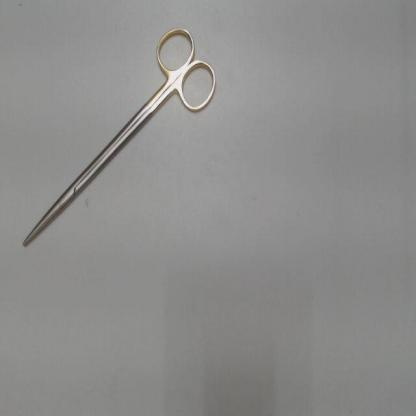7 Metzenbaum Scissors: (21, 22, 224, 252)
